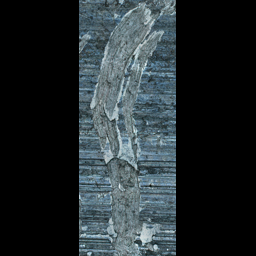d: (88, 41, 146, 144), (94, 127, 144, 208), (110, 1, 173, 61), (100, 209, 167, 256), (79, 223, 95, 256)
